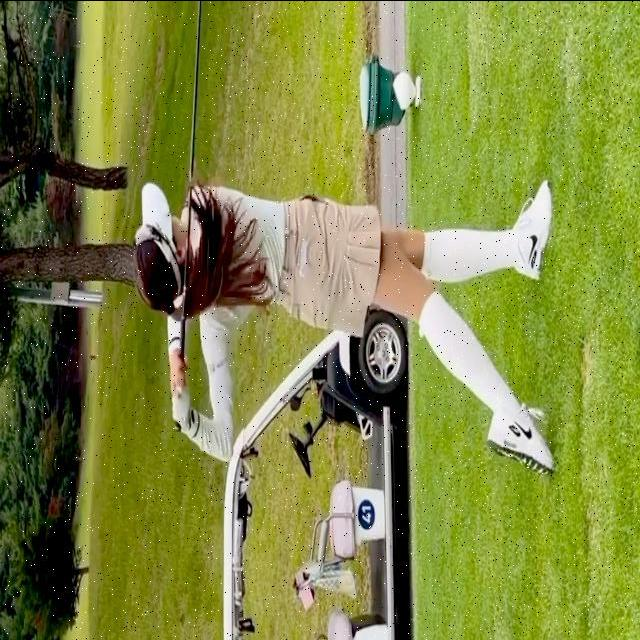ClubHandle: (173, 0, 217, 435)
